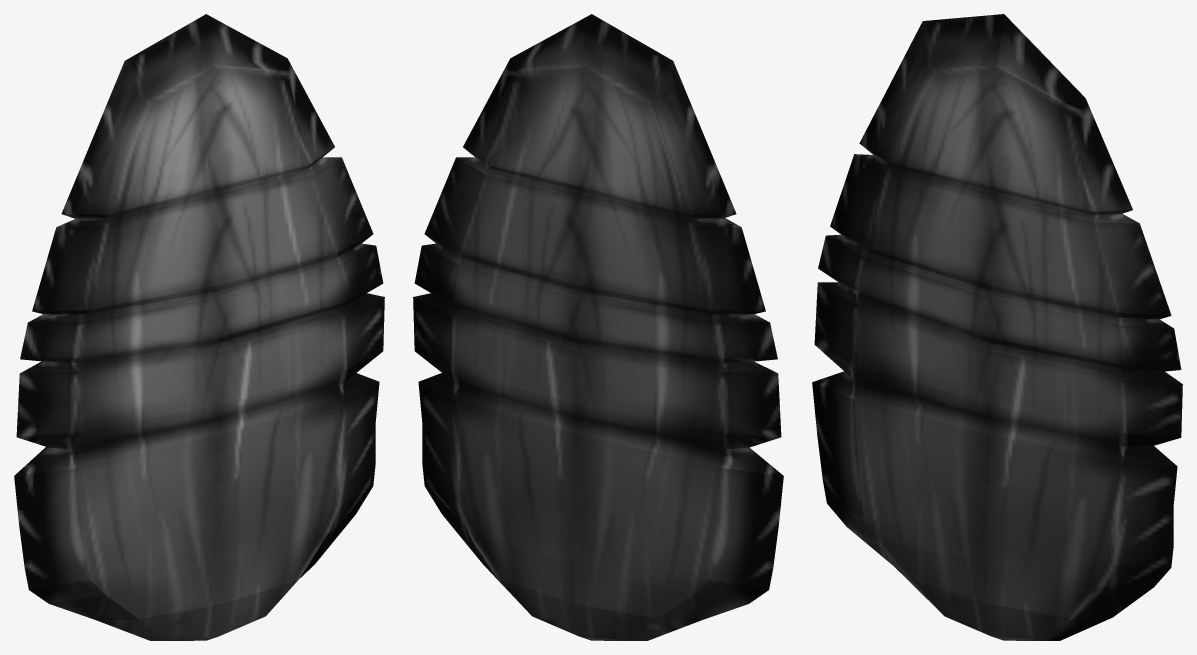
Rendered from UnityFlint.fbx.
3 views of the same model, side by side, from view 1: azimuth 30°, elevation 25°; view 2: azimuth 150°, elevation 25°; view 3: azimuth 330°, elevation 25° (orthographic).
Parts seen in each view (by area): view 1: Cube; view 2: Cube; view 3: Cube.
Boxes of the visible parts, <box> form: Cube: <box>14,14,384,640</box>; Cube: <box>413,14,783,640</box>; Cube: <box>812,14,1182,640</box>.
Size of the model in its own units: 3.24 by 5.24 by 0.5248.
